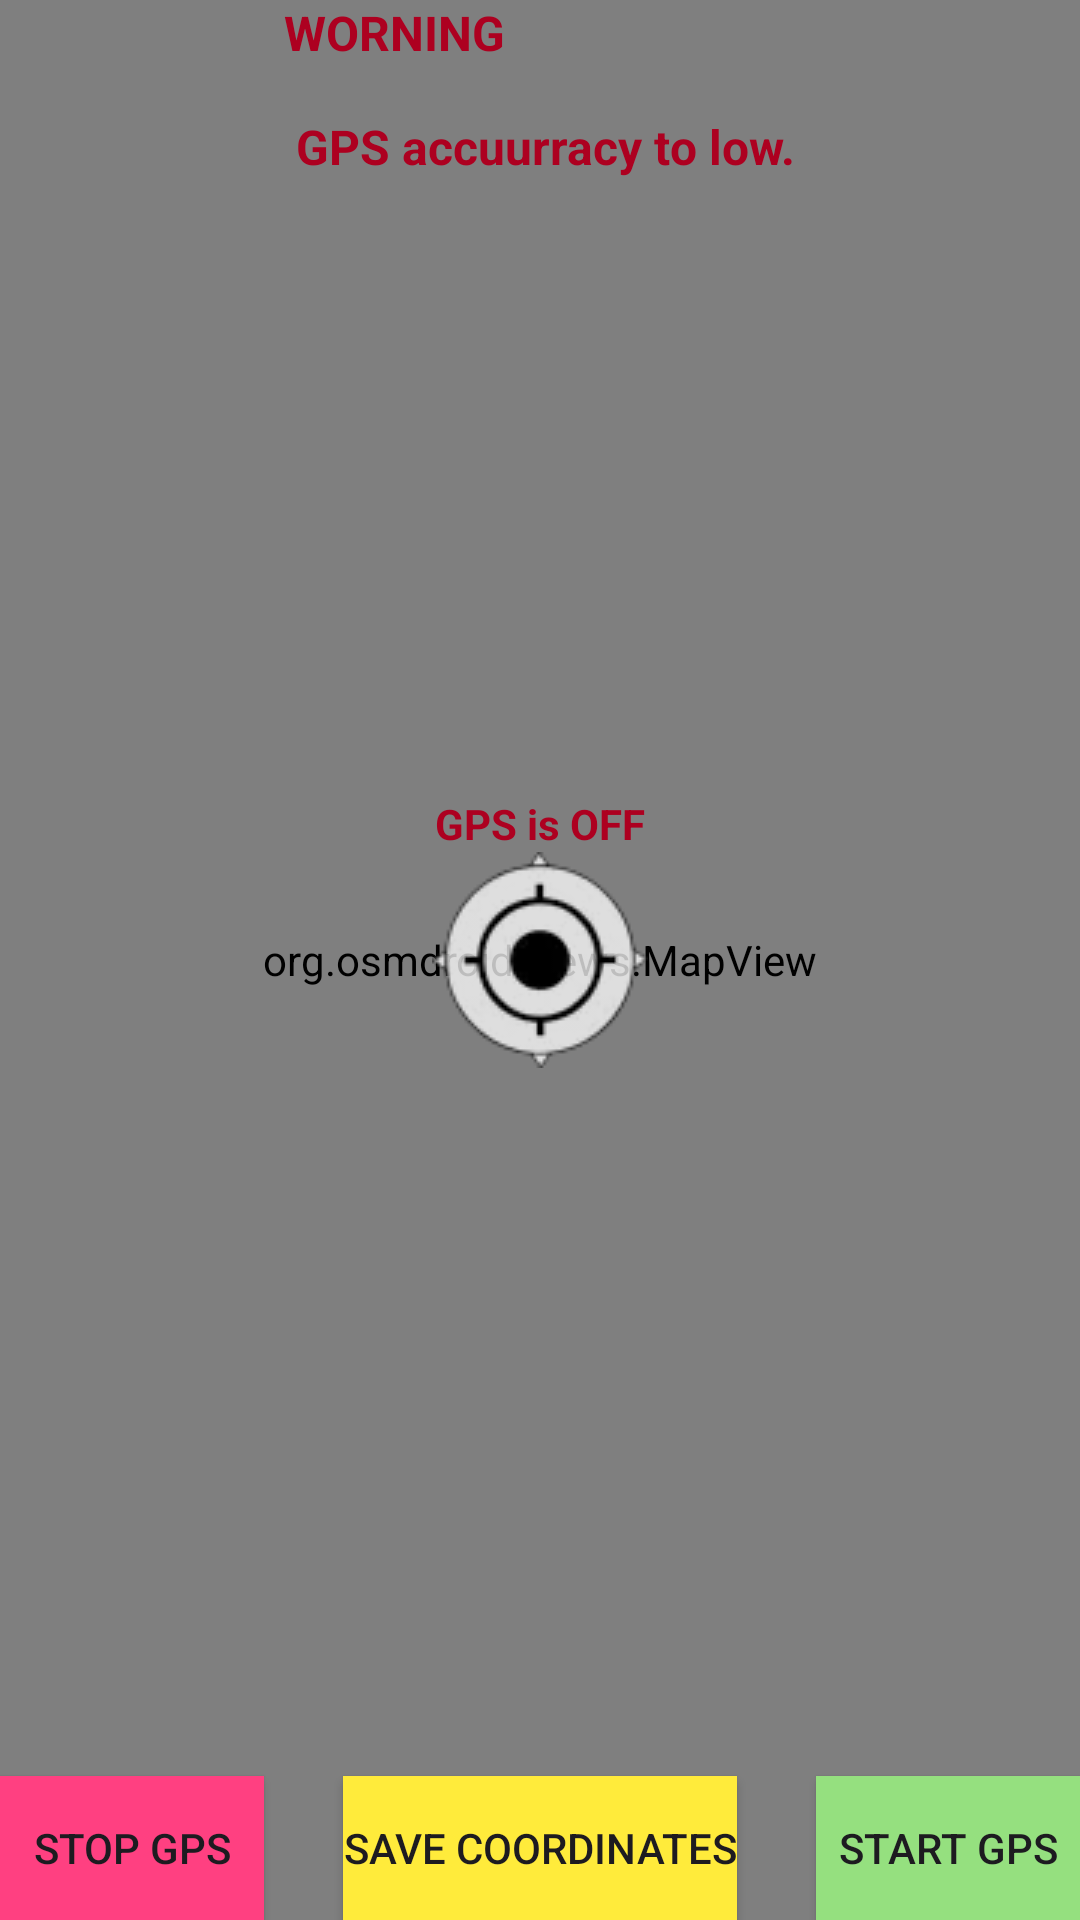

Icon bounding boxes for this 1080px×1920px phone screenshot, format [x1, y1, x2, y2]:
center of map: [441, 852, 644, 1068]
